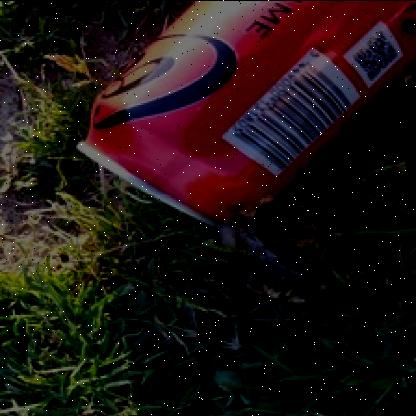Can: (75, 0, 416, 224), (0, 415, 1, 416)
